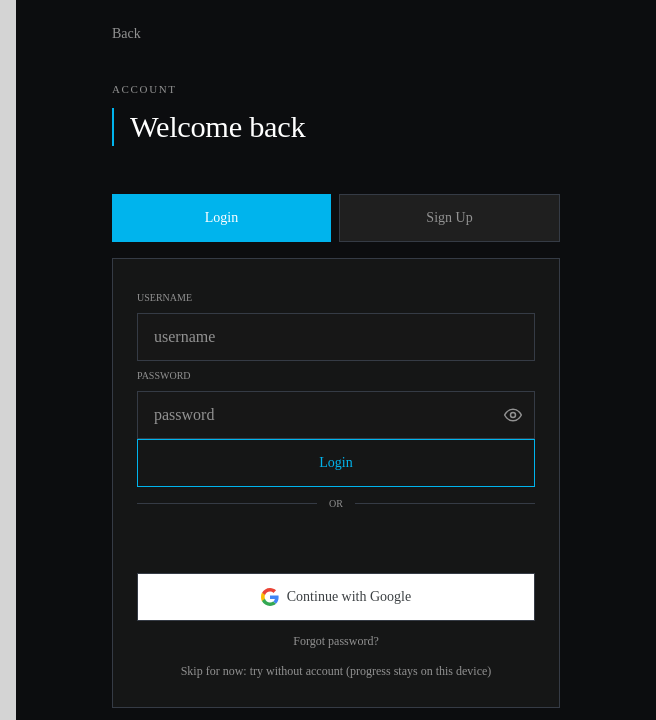
Test: LoginPage › requires an email on signup
Click the button "Sign Up".
click(450, 218)  # box 339,194 -> 560,242
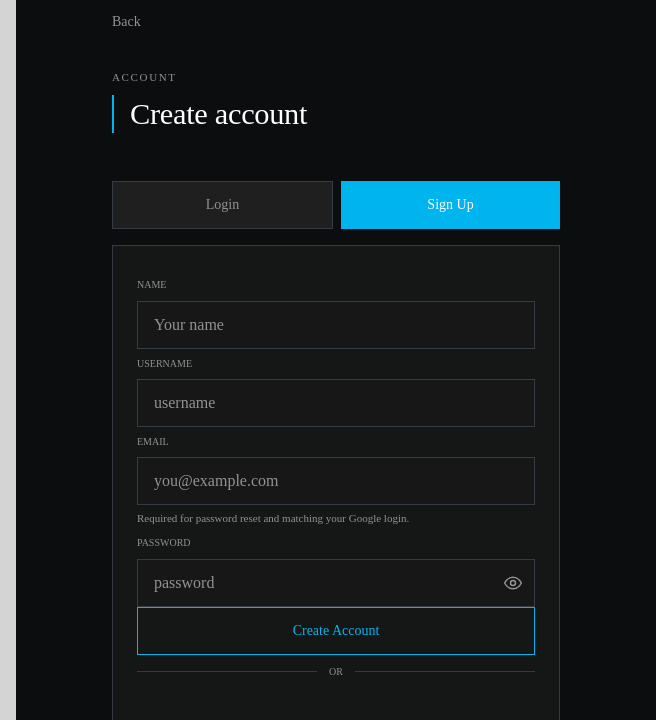
Type "Ada" into the field labelled "Name".
click(336, 324); type("Ada")  # box 137,300 -> 535,348
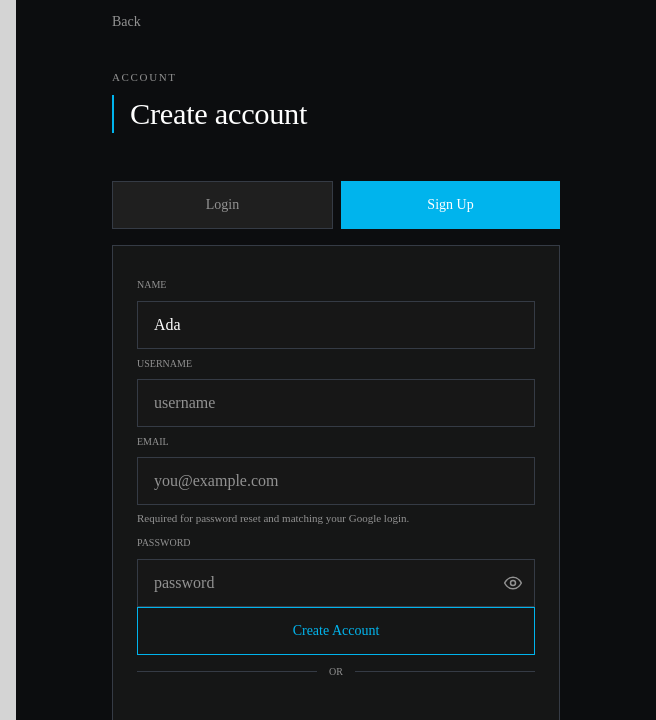
Type "ada" into the field labelled "Username".
click(336, 403); type("ada")  # box 137,379 -> 535,427
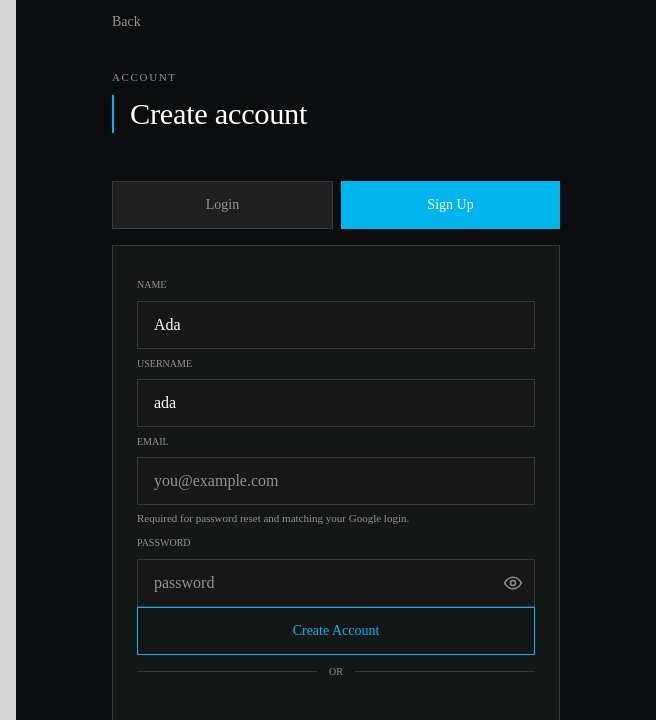
Type "Engine!n1" into the password field labelled "Password".
click(336, 582); type("Engine!n1")  # box 137,558 -> 535,606
(page scrolled)
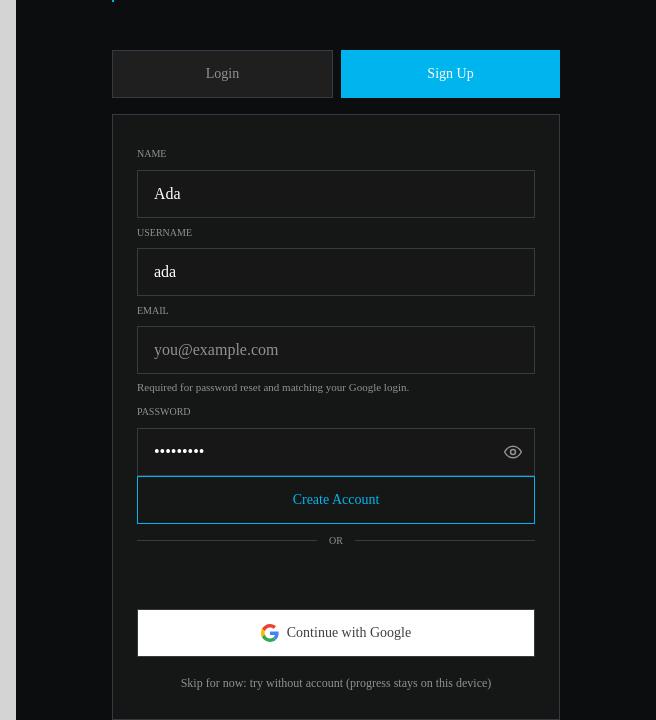
Submit the form named "Create Account", box 137,139 -> 535,695
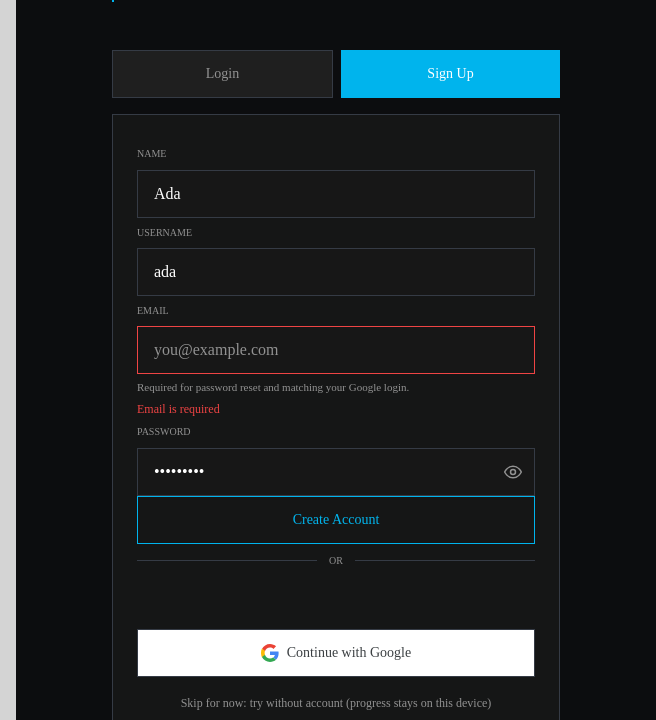
Check: the text "Email is required" is shown, box 137,402 -> 220,416
